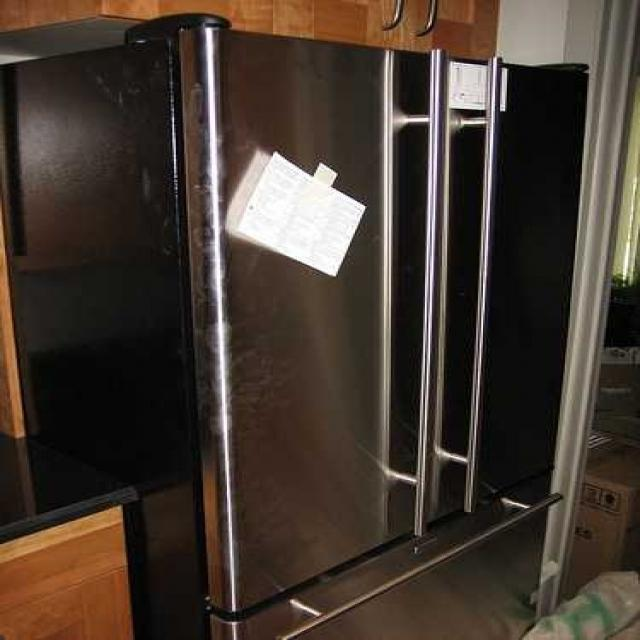refrigerator: (161, 18, 583, 640)
